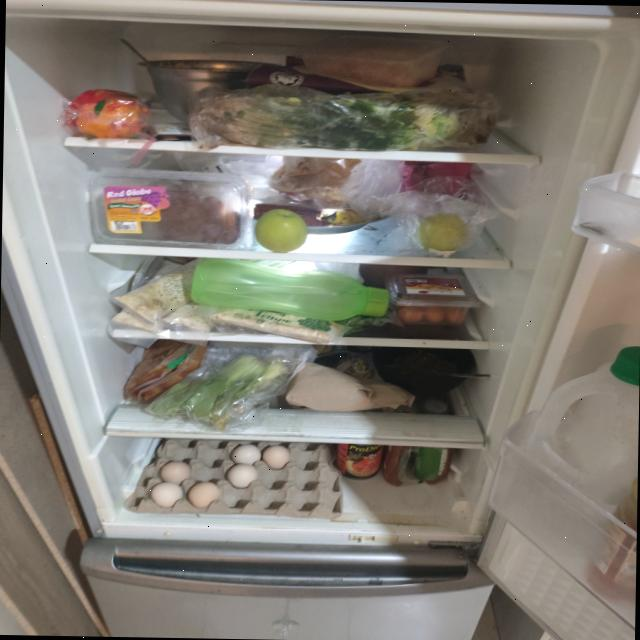apple: (256, 208, 308, 252), (418, 210, 469, 253)
egg: (128, 437, 342, 519)
grape: (87, 166, 254, 252)
leafy_greens: (190, 84, 492, 154)
orange: (70, 88, 148, 140)
pakchoy: (152, 352, 288, 426)
tempeh: (112, 258, 196, 322), (210, 307, 346, 343), (161, 300, 219, 332)
